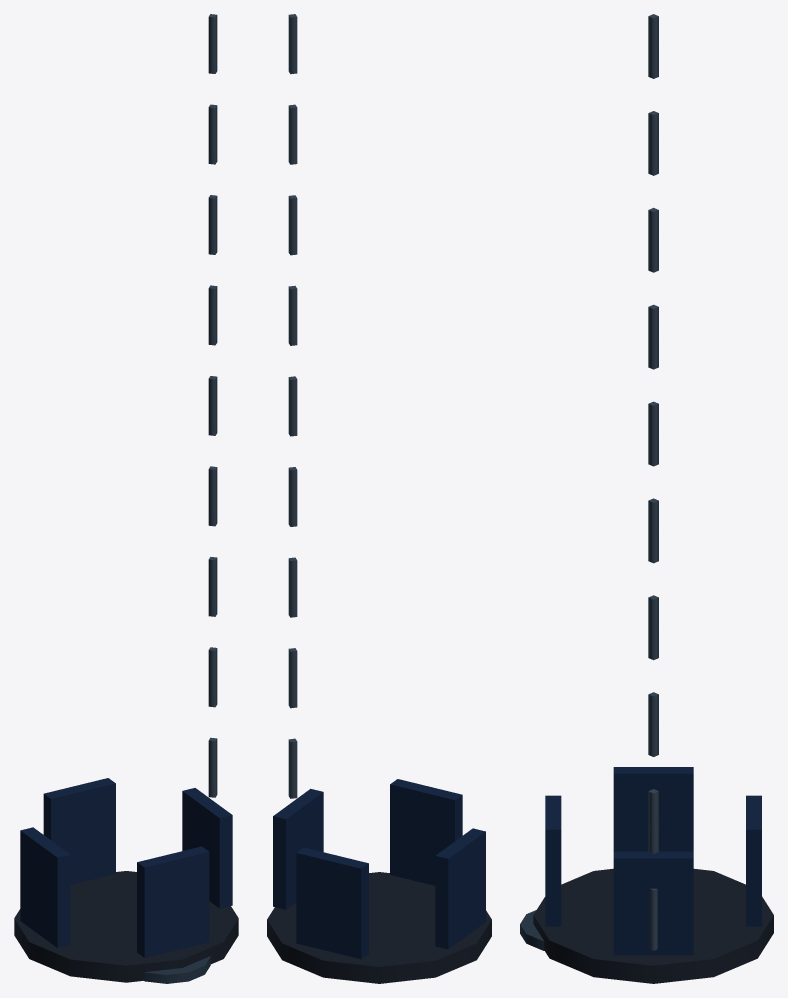
File: rocket-cabin.glb
The picture shows the model from 3 angles, left to right: view 1: azimuth 30°, elevation 25°; view 2: azimuth 150°, elevation 25°; view 3: azimuth 270°, elevation 25°; orthographic projection. The views are drawn at different scales.
Visible parts, largest first — view 1: cabin-floor, cabin-console-1, cabin-console-3, cabin-console-4, cabin-console-2, hatch, ladder-1, ladder-2, ladder-8, ladder-4, ladder-6, ladder-3 (+3 smaller); view 2: cabin-floor, cabin-console-3, cabin-console-1, cabin-console-4, cabin-console-2, ladder-1, ladder-5, ladder-7, ladder-2, ladder-3, ladder-8, ladder-6 (+2 smaller); view 3: cabin-floor, cabin-console-2, cabin-console-4, cabin-console-1, cabin-console-3, ladder-6, ladder-4, ladder-5, ladder-7, ladder-8, ladder-1, ladder-3 (+3 smaller).
Boxes of the visible parts, box(x1,y1,x2,y2) form: cabin-floor: box(14, 871, 238, 982); cabin-console-1: box(137, 846, 209, 957); cabin-console-3: box(43, 778, 115, 884); cabin-console-4: box(20, 827, 70, 947); cabin-console-2: box(182, 788, 232, 908); hatch: box(144, 956, 210, 983); ladder-1: box(208, 737, 217, 797); ladder-2: box(208, 647, 217, 707); ladder-8: box(208, 104, 217, 164); ladder-4: box(208, 466, 217, 526); ladder-6: box(208, 285, 217, 345); ladder-3: box(208, 556, 217, 616); cabin-floor: box(267, 872, 491, 983); cabin-console-3: box(296, 847, 368, 959); cabin-console-1: box(390, 779, 462, 885); cabin-console-4: box(435, 828, 485, 949); cabin-console-2: box(273, 788, 323, 909); ladder-1: box(288, 738, 297, 798); ladder-5: box(288, 376, 297, 436); ladder-7: box(288, 195, 297, 255); ladder-2: box(288, 648, 297, 708); ladder-3: box(288, 557, 297, 617); ladder-8: box(288, 104, 297, 164); ladder-6: box(288, 285, 297, 345); cabin-floor: box(533, 868, 773, 983); cabin-console-2: box(613, 851, 693, 955); cabin-console-4: box(613, 767, 693, 851); cabin-console-1: box(545, 795, 561, 926); cabin-console-3: box(746, 795, 761, 926); ladder-6: box(648, 304, 658, 369); ladder-4: box(648, 498, 658, 563); ladder-5: box(648, 401, 658, 466); ladder-7: box(648, 207, 658, 272); ladder-8: box(648, 111, 658, 175); ladder-1: box(648, 789, 658, 853); ladder-3: box(648, 595, 658, 660).
Bounding box in the file's own units: 1.8 × 7.95 × 1.9.
